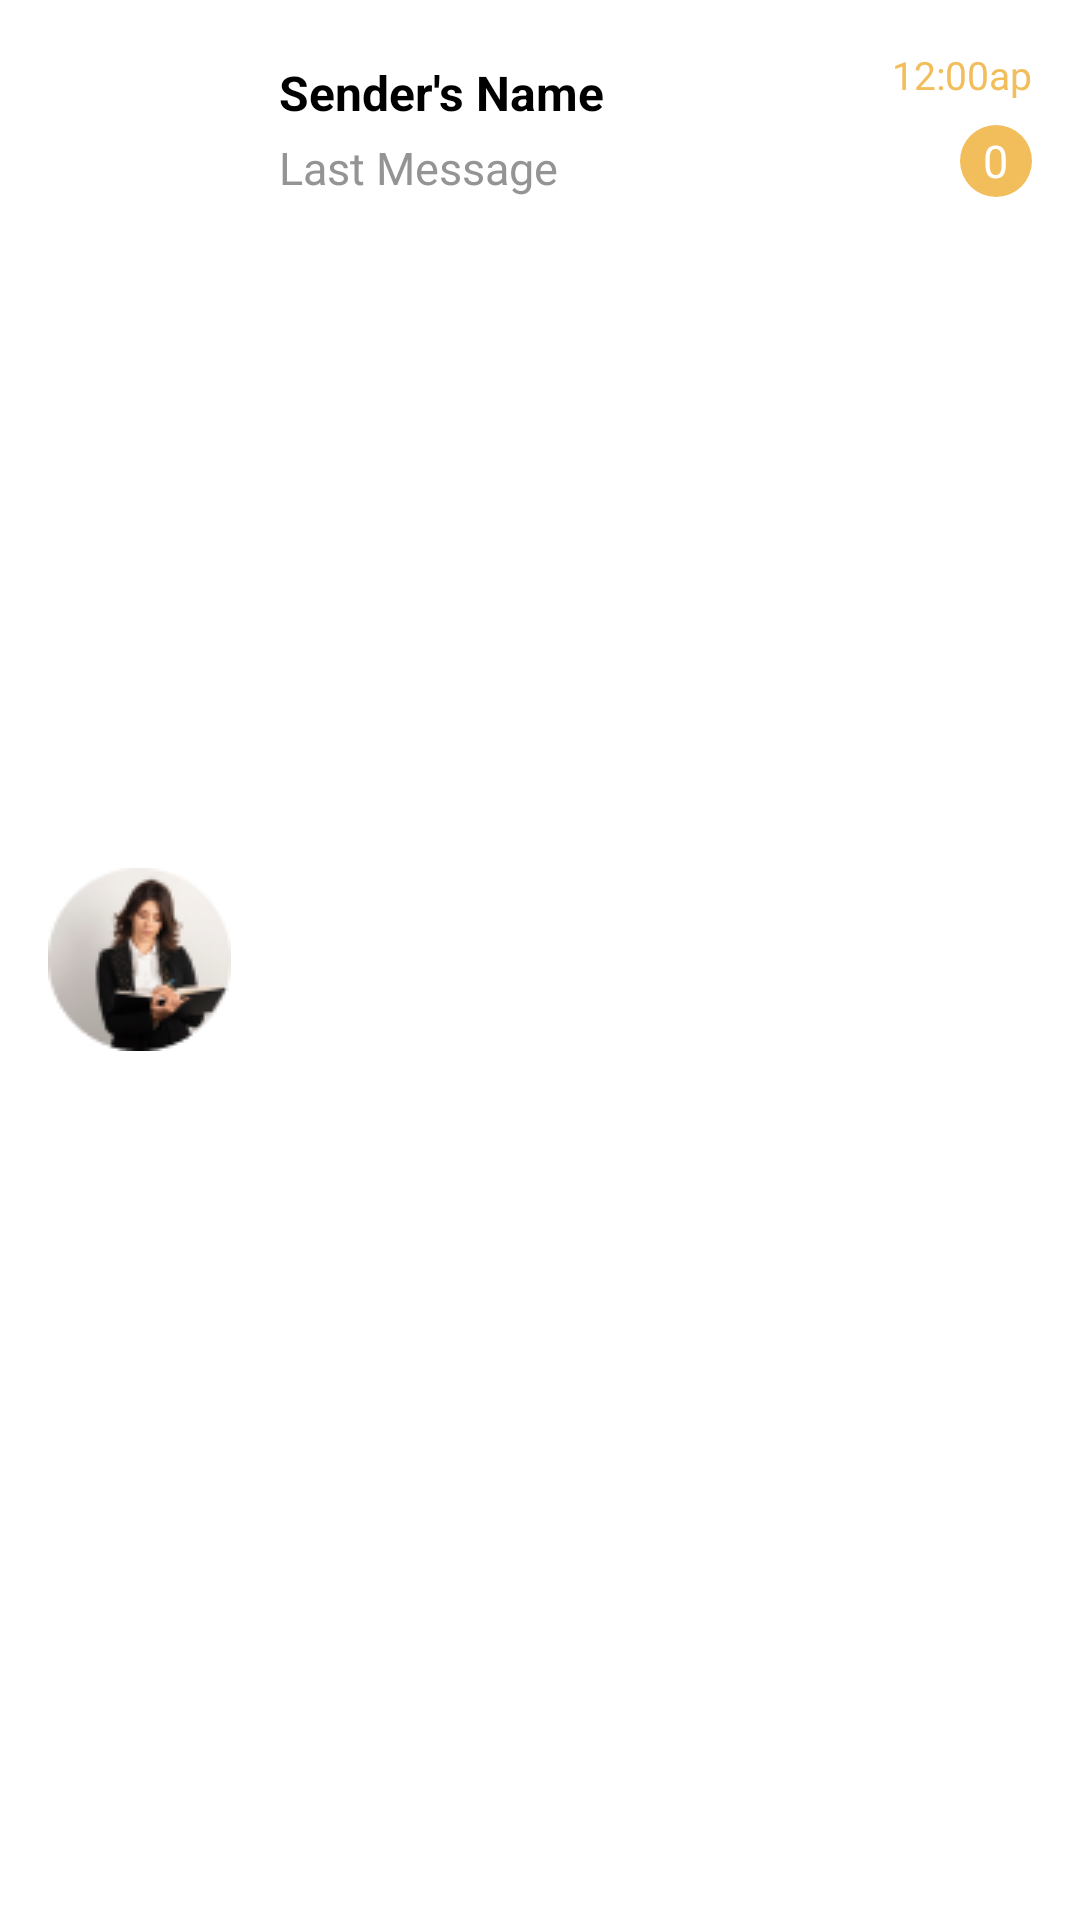

Icon click points for this 1080px×1920px phone screenshot, format (x,y):
userphoto: (139,963)
